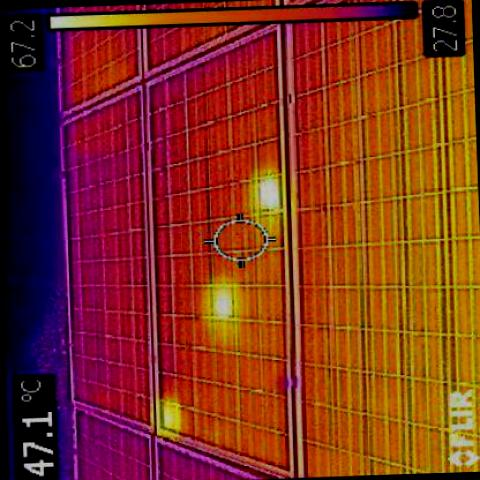fault: (256, 180, 281, 210), (216, 289, 240, 316), (162, 403, 181, 429)
